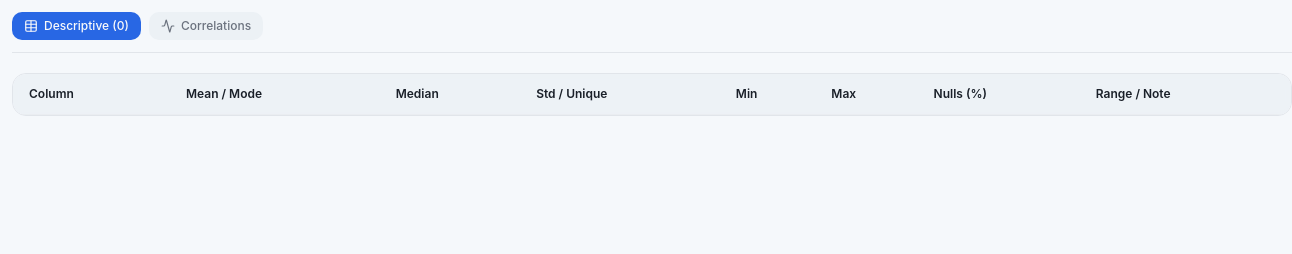
Test: DatasetStatisticsView › switches to the correlations tab
Click the button "Correlations" at coordinates (206, 26), box [149,12,263,40]
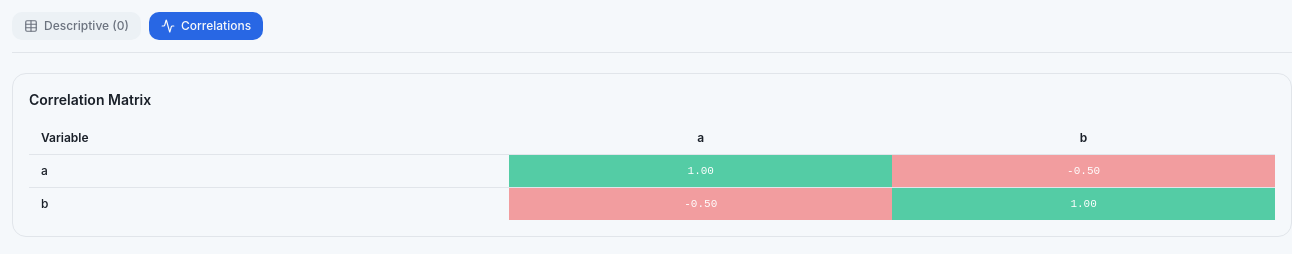
Check: the heading "Correlation Matrix" is shown, box [29,91,151,108]
